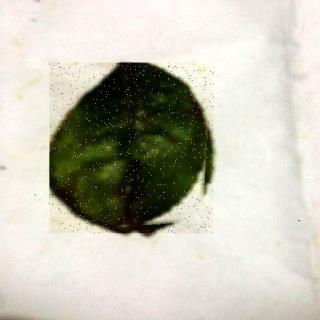Red Leaf Spot: (51, 64, 215, 234)
